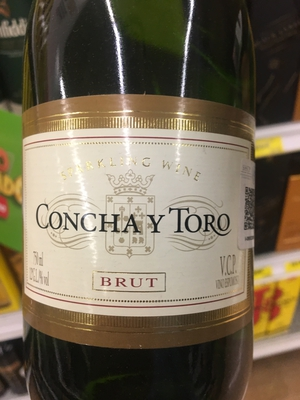brut: (20, 1, 264, 400)
